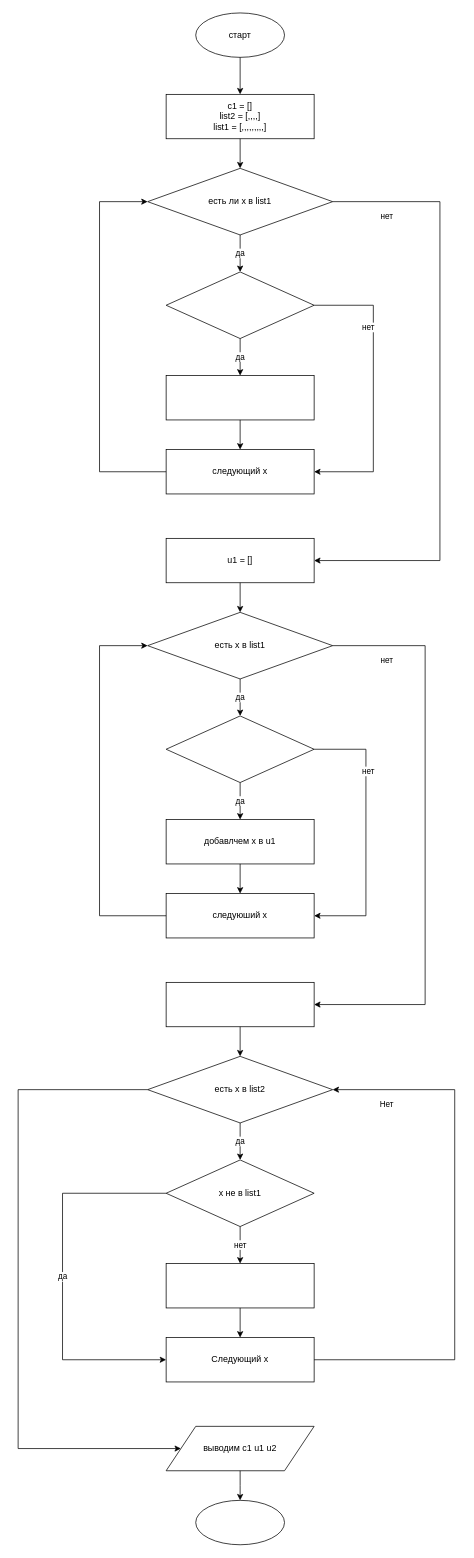
Image size: 474x1558. Some labels were removed from this diagram. Here are the shapes that lost their labels. From the top down, the box of each, then its label:
(165, 271, 314, 339): x в list2
(165, 375, 314, 420): добавляем x в c1
(165, 715, 314, 783): x не в list2
(165, 982, 314, 1027): u2 = []
(165, 1263, 314, 1308): добавляем x в u2
(195, 1500, 285, 1545): стоп
